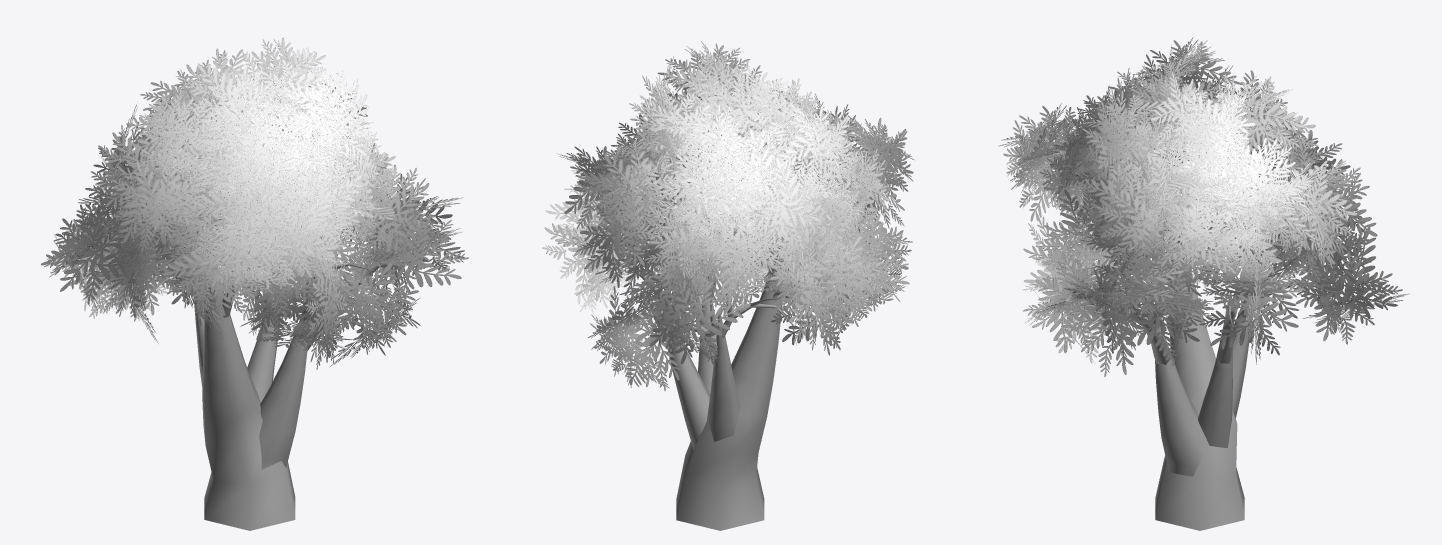
The model's file is FBX_OliveTree.fbx.
The picture shows the model from 3 angles, left to right: view 1: azimuth 30°, elevation 25°; view 2: azimuth 150°, elevation 25°; view 3: azimuth 270°, elevation 25°; orthographic projection. The views are drawn at different scales.
Visible parts, largest first — view 1: MESH_OliveTree_Leaves3, MESH_OliveTree; view 2: MESH_OliveTree_Leaves3, MESH_OliveTree; view 3: MESH_OliveTree_Leaves3, MESH_OliveTree.
Boxes of the visible parts, left/top/right/bottom form: MESH_OliveTree_Leaves3: left=41, top=37, right=468, bottom=369; MESH_OliveTree: left=114, top=220, right=444, bottom=530; MESH_OliveTree_Leaves3: left=542, top=41, right=914, bottom=390; MESH_OliveTree: left=625, top=227, right=824, bottom=530; MESH_OliveTree_Leaves3: left=998, top=37, right=1409, bottom=377; MESH_OliveTree: left=1068, top=226, right=1333, bottom=530.
Bounding box in the file's own units: 946 × 997 × 872.
